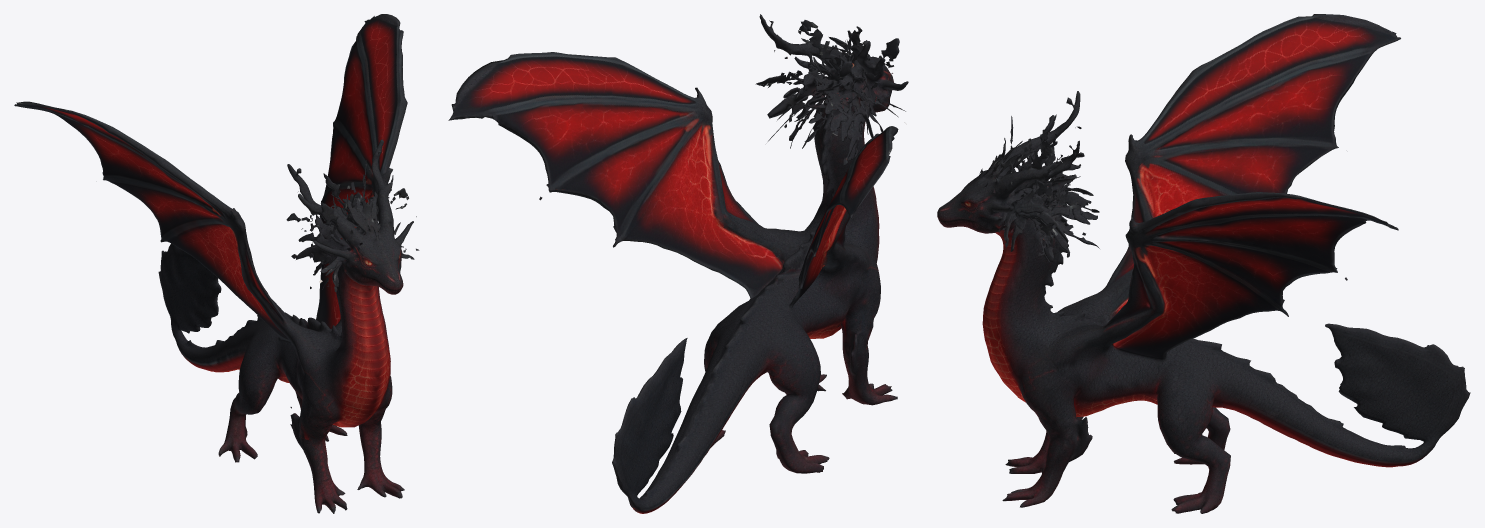
The model's file is lava_beyonder.glb.
3 renders of one model, left to right at view 1: azimuth 30°, elevation 25°; view 2: azimuth 150°, elevation 25°; view 3: azimuth 270°, elevation 25°, orthographic. The views are drawn at different scales.
Size of the model in its own units: 1.72 by 1.57 by 2.
Materials: 1 (1 with a texture image).
